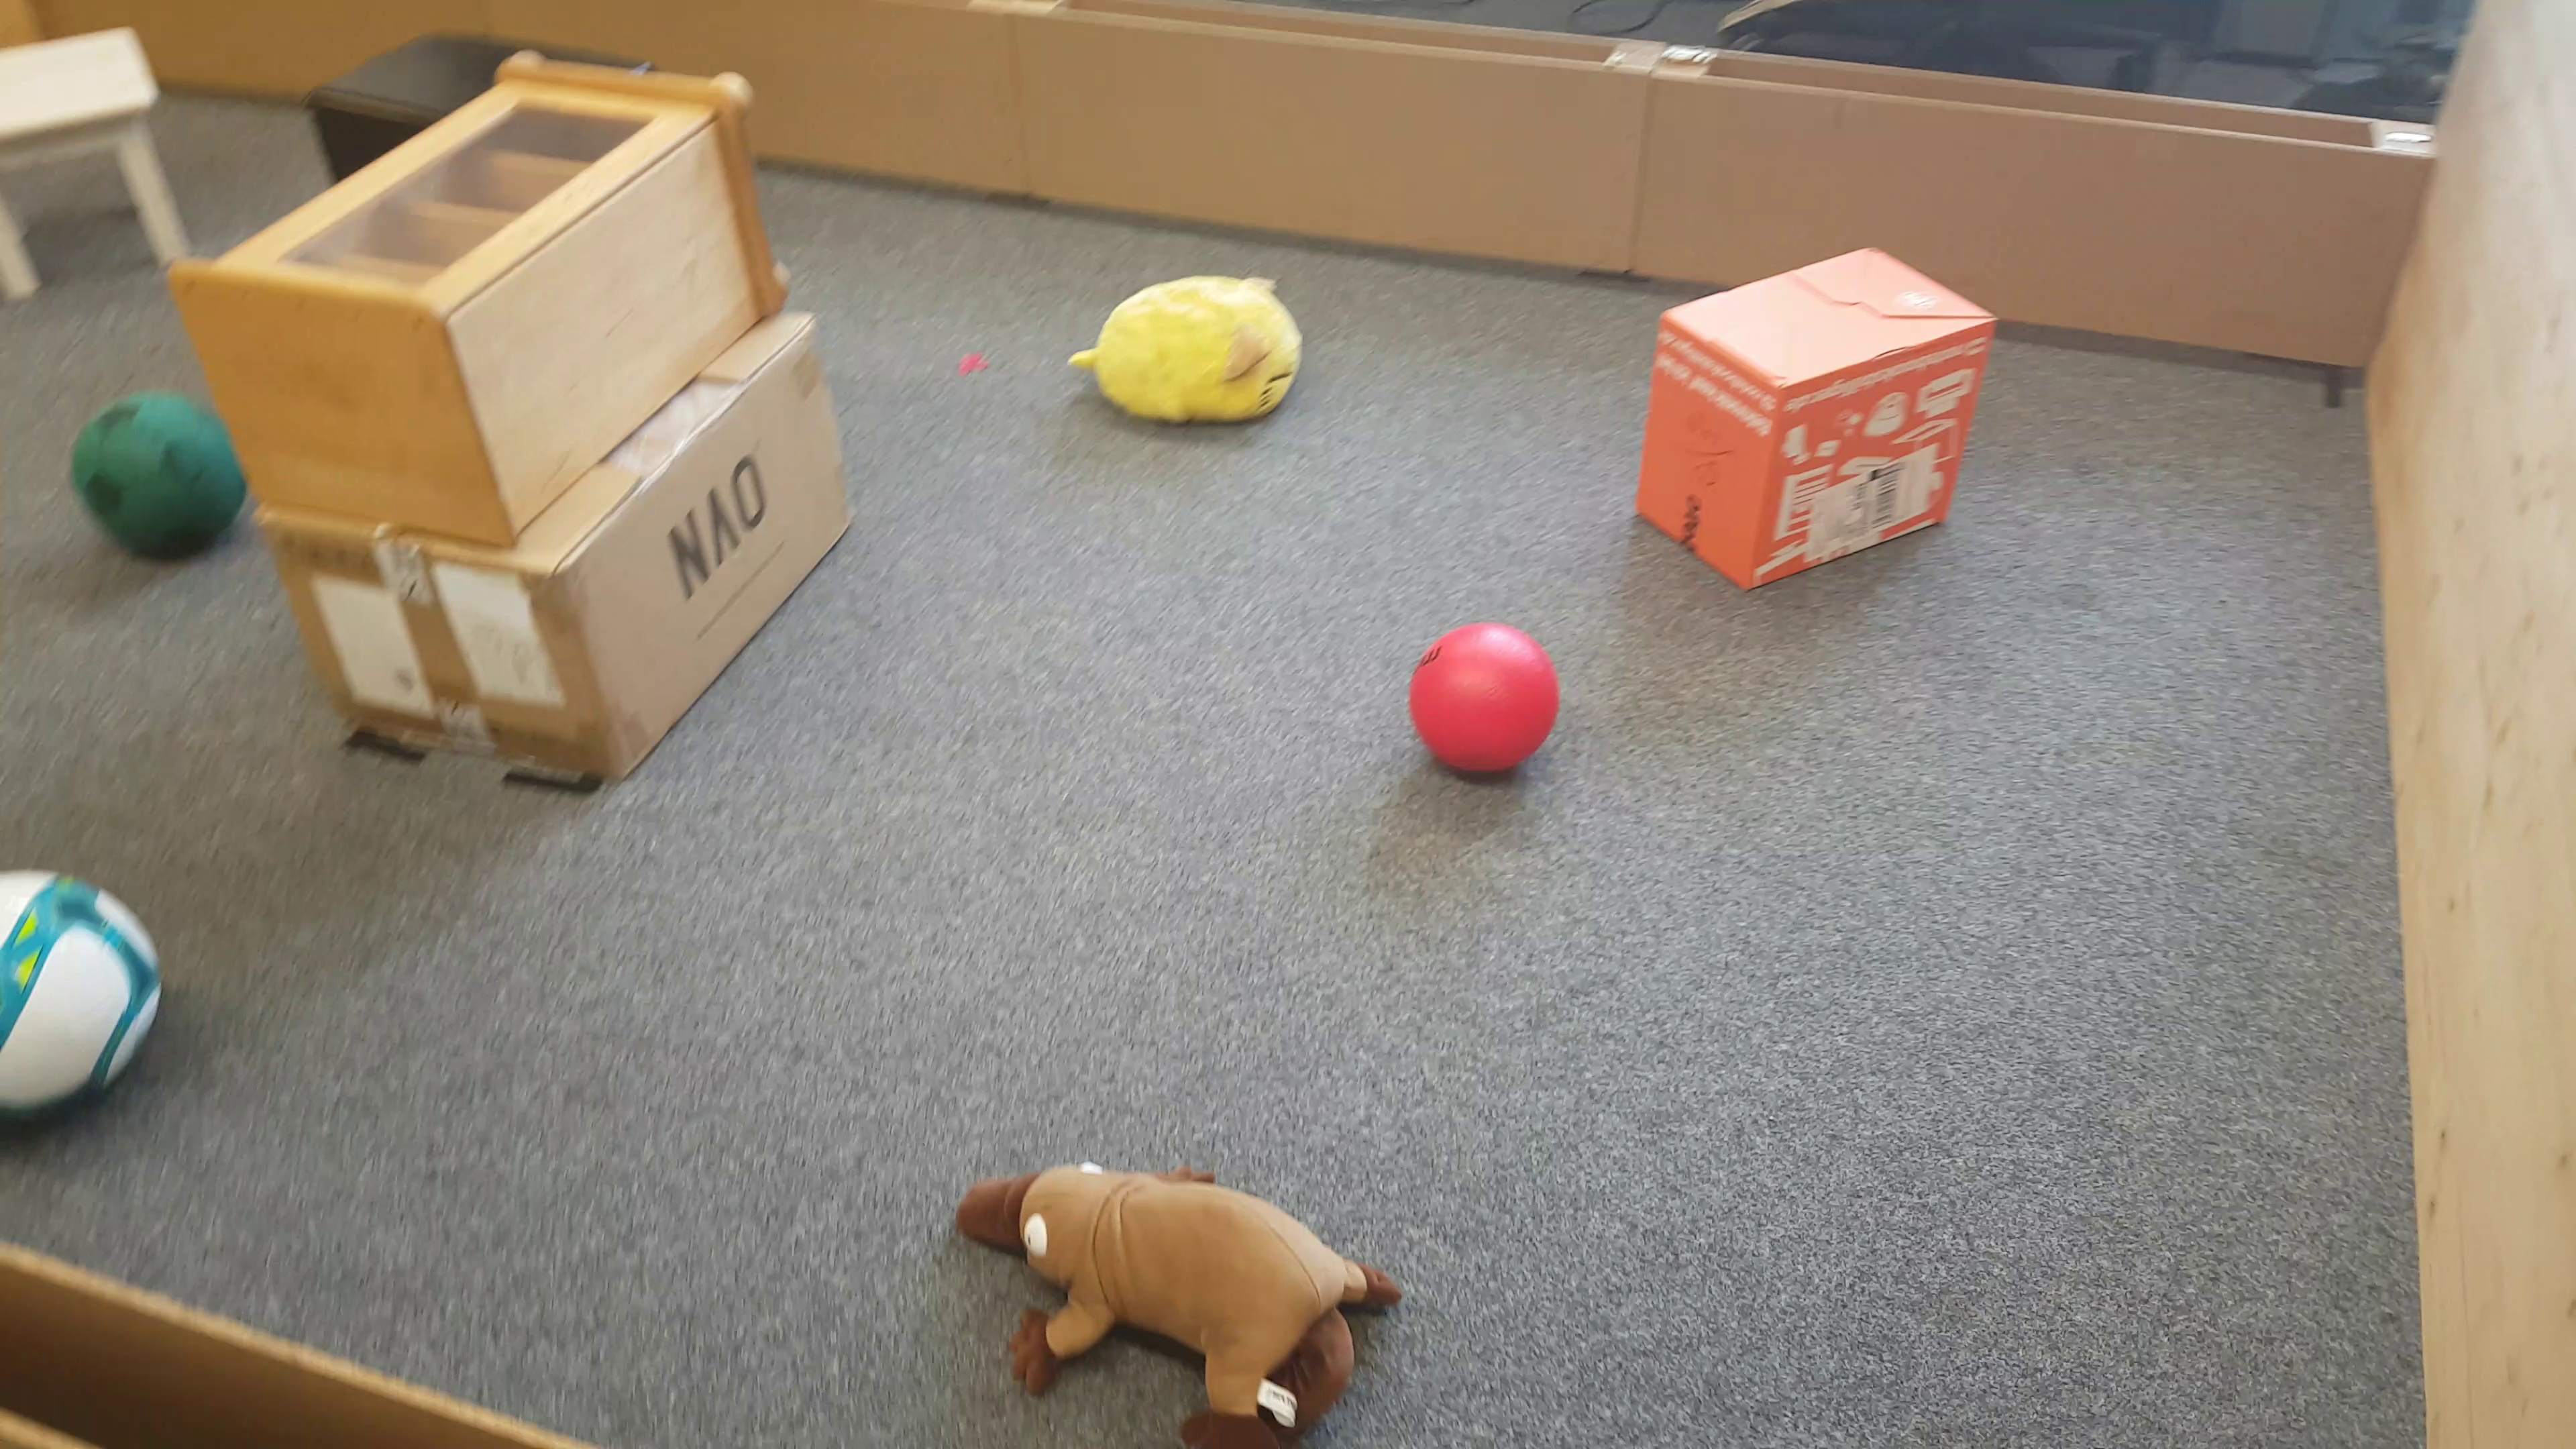grasp: (954, 1159, 1399, 1449), (1074, 272, 1306, 423)
kick: (2, 867, 161, 1123), (71, 393, 249, 561), (1412, 628, 1562, 782)
push: (1637, 244, 1996, 593), (313, 35, 455, 115)
